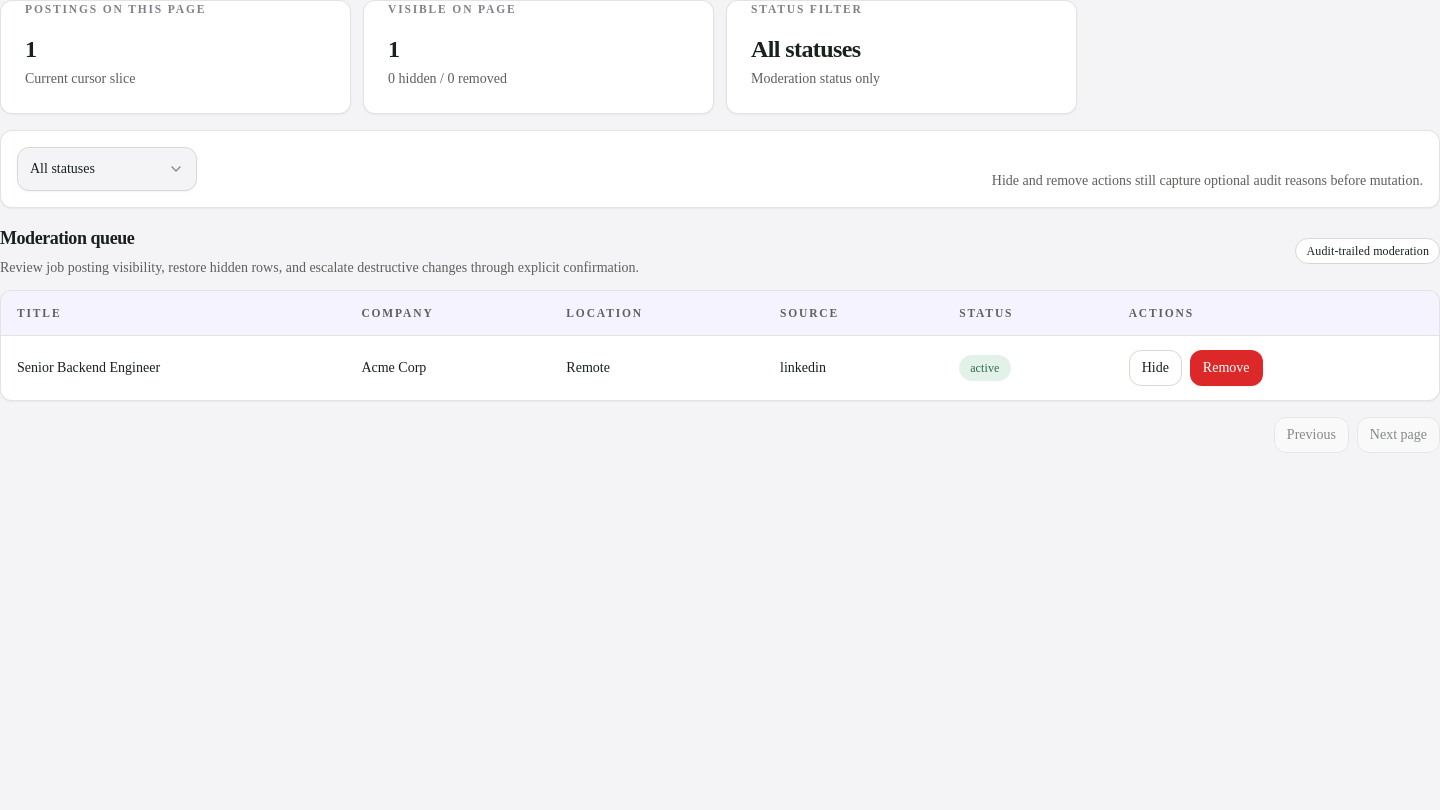
JobPostingsModerationPanel › opens a restyled hide-reason dialog without pastel chrome
Click the button "Hide" at (1155, 368), box [1129,350,1182,386]
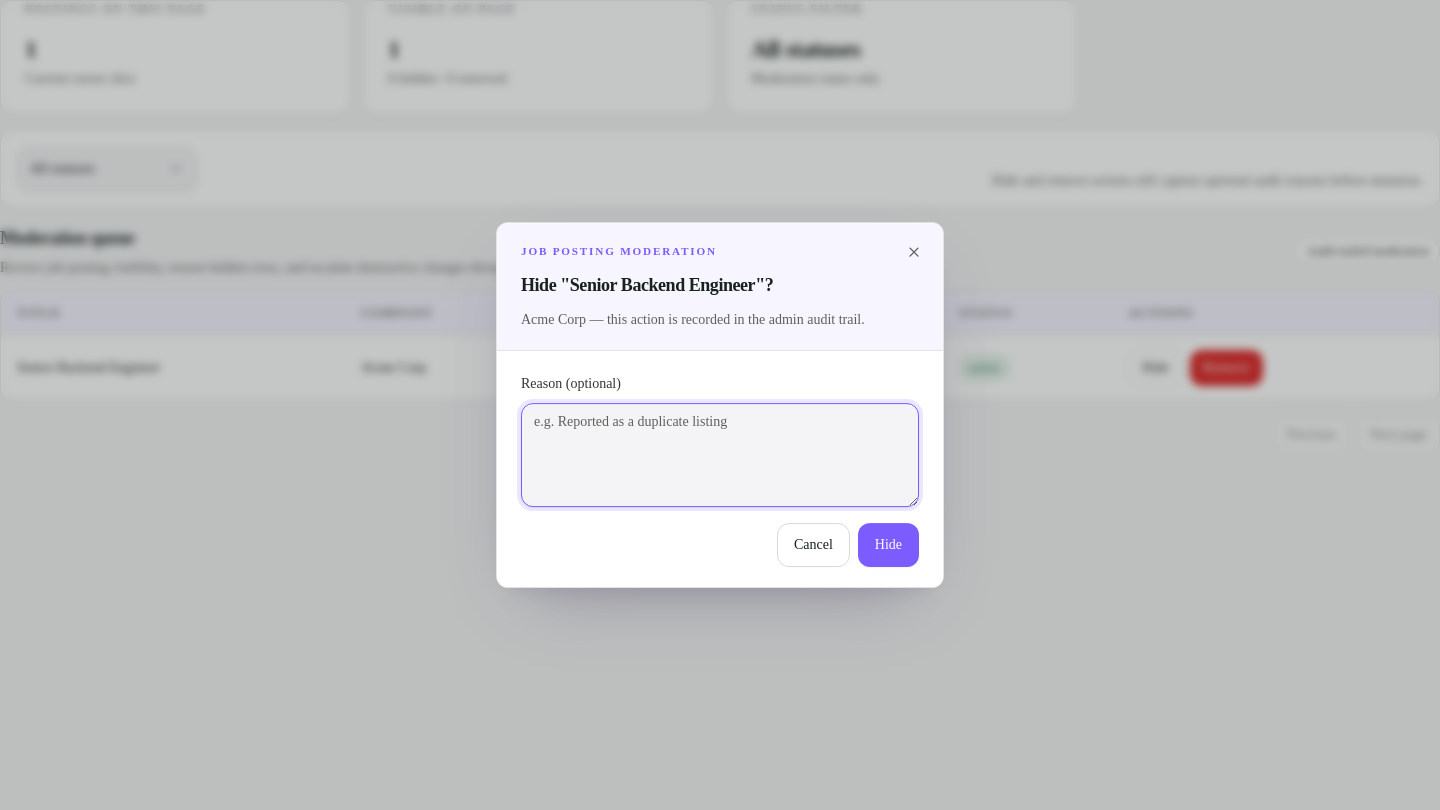
Now the text "Job posting moderation" is shown, box [521,245,717,257]
Now the text box labelled "Reason (optional)" is shown, box [521,403,919,507]
